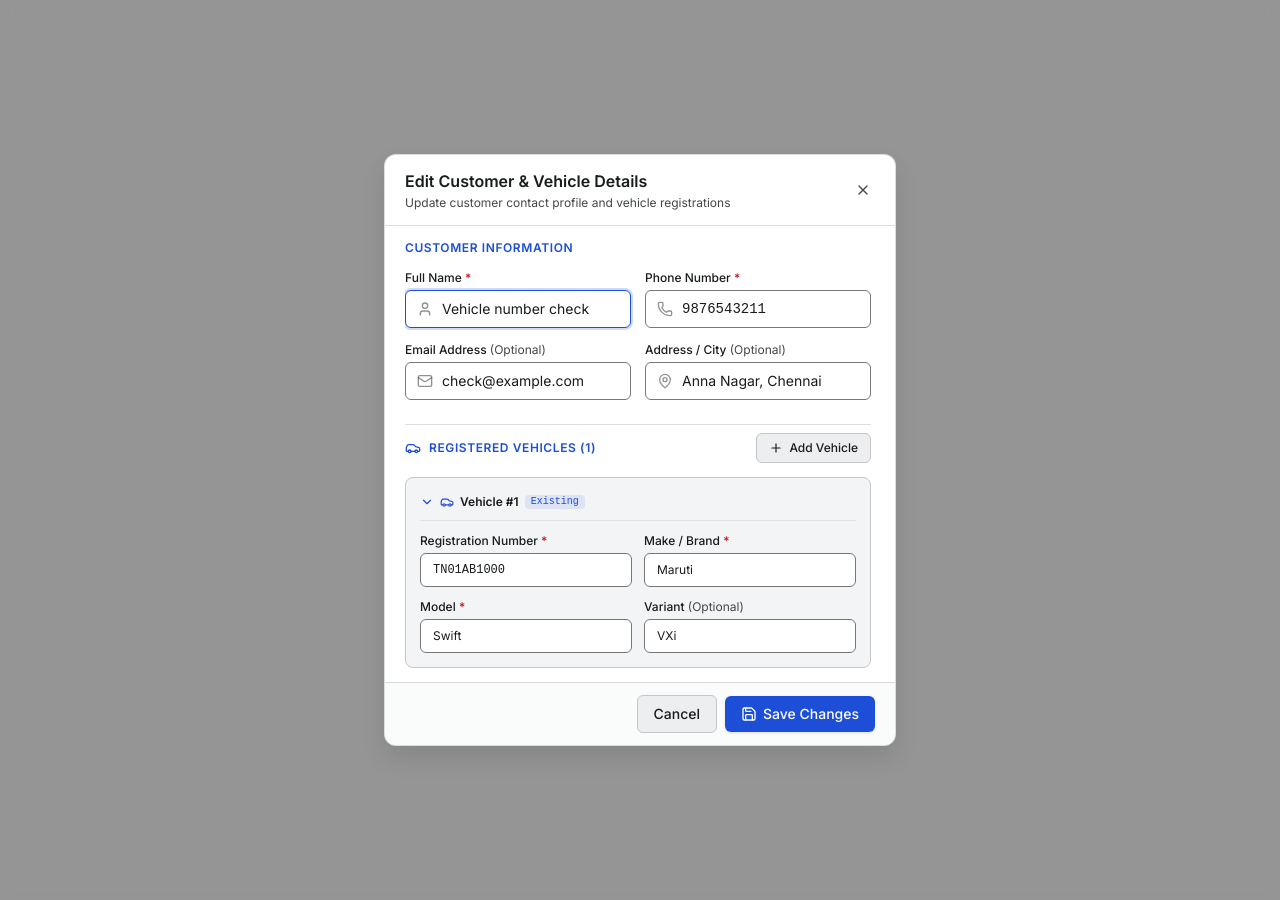
Scenario: EditCustomerModal Component & Vehicle Uniqueness › Vehicle Ownership Transfer Invariants & Regression Tests › Test 1 — Correct conflict vehicle: 409 for TN56P3334 displays registration and owner Gokula Kannan
The image size is (1280, 900).
Expected: the field showing "Vehicle number check" below "Full Name" is shown, [405,290,631,328]
Click the button "Add Vehicle" at (814, 448), box [756,433,871,463]
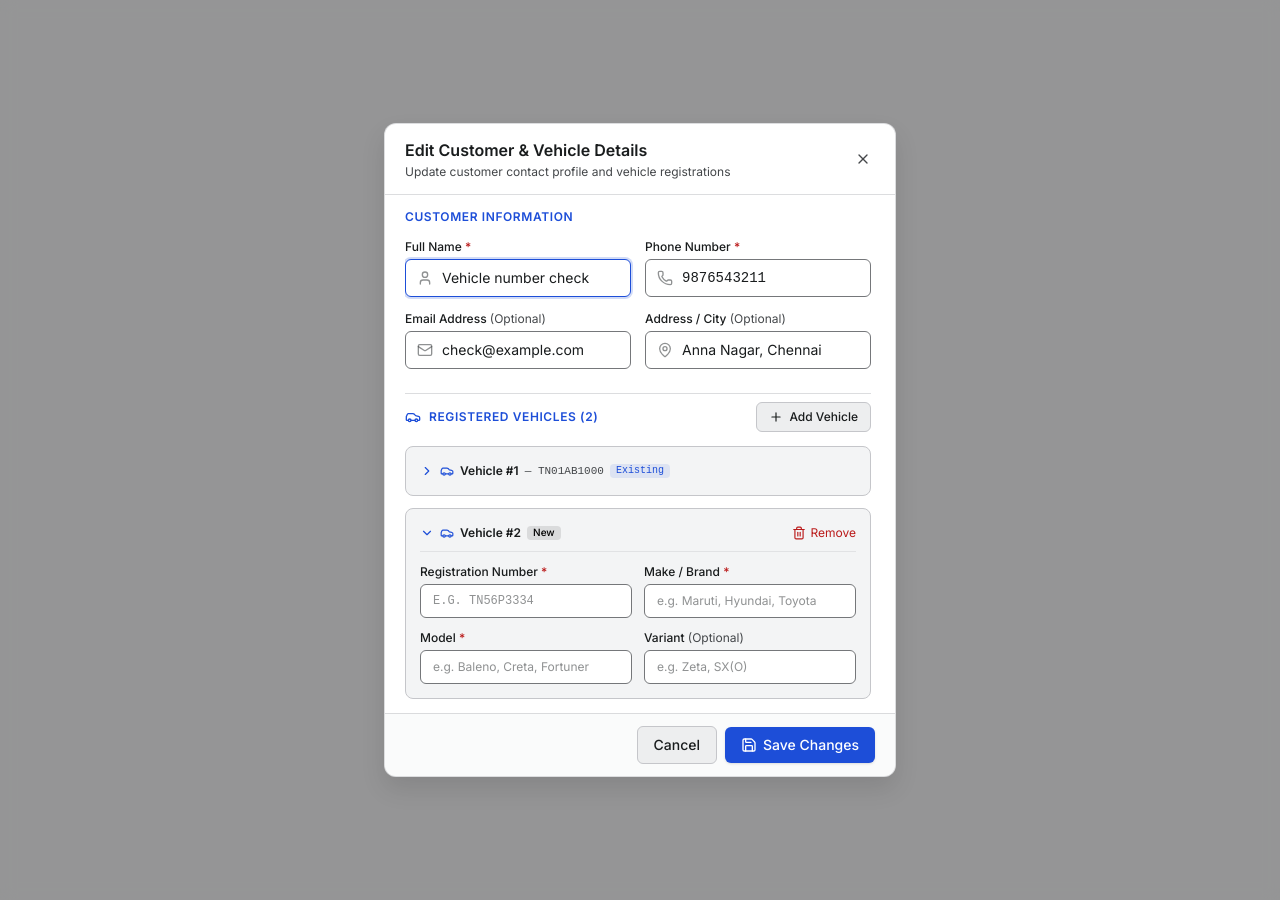
Type "TN56P3334" into the field with placeholder "e.g. TN56P3334" at (526, 601), box [420,584,632,618]
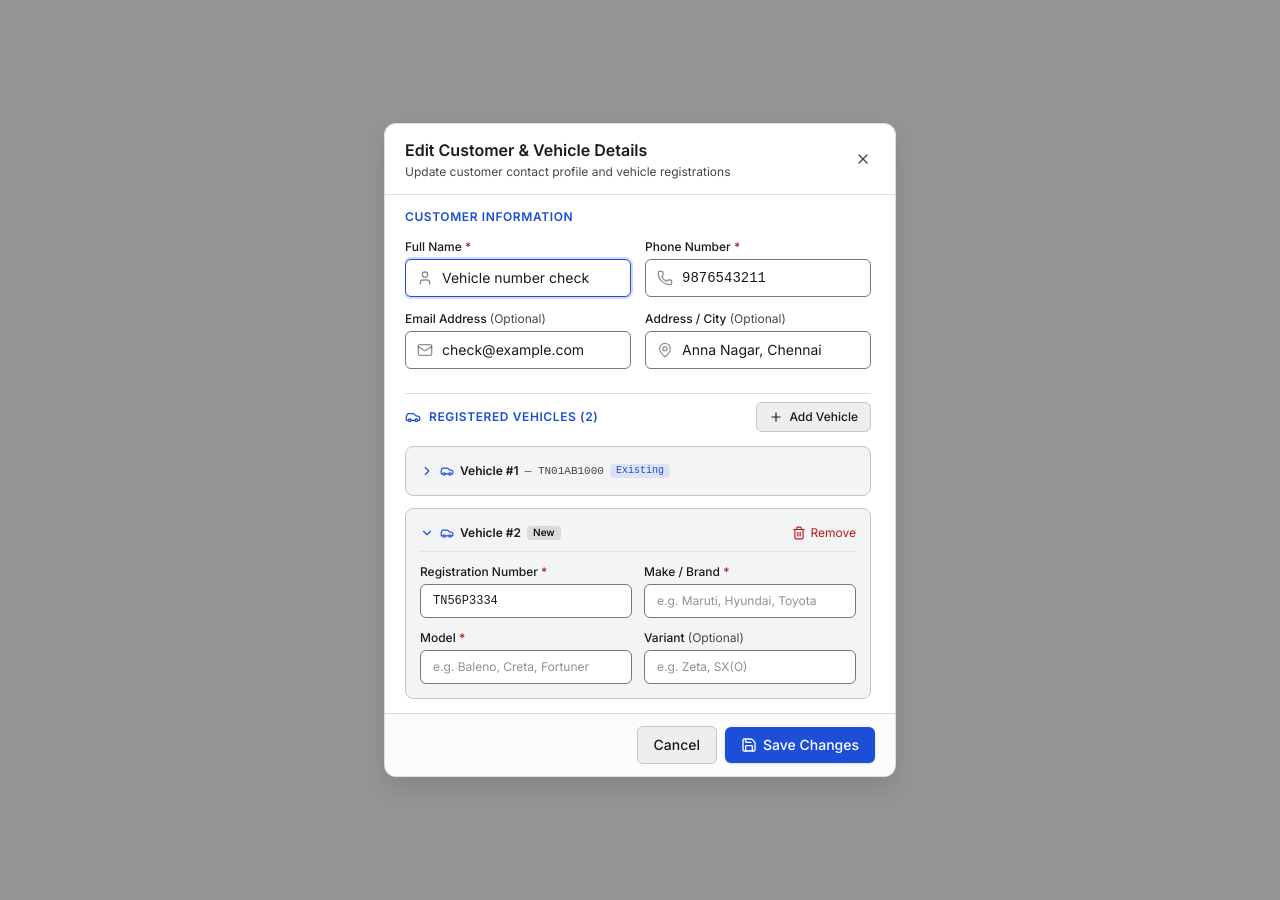
Type "Maruti" into the field with placeholder "e.g. Maruti, Hyundai, Toyota" at (750, 601), box [644,584,856,618]
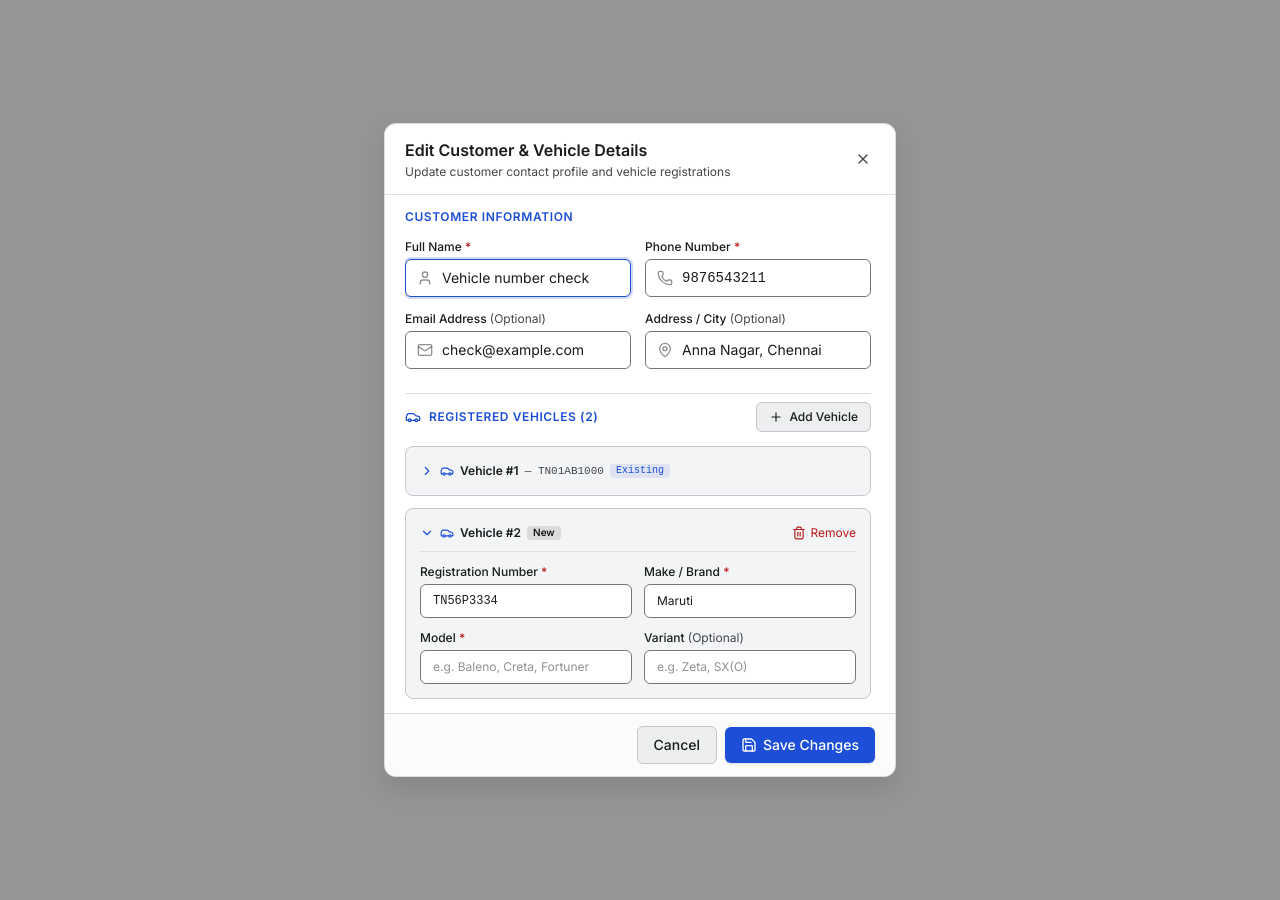
Type "Baleno" into the field with placeholder "e.g. Baleno, Creta, Fortuner" at (526, 667), box [420,650,632,684]
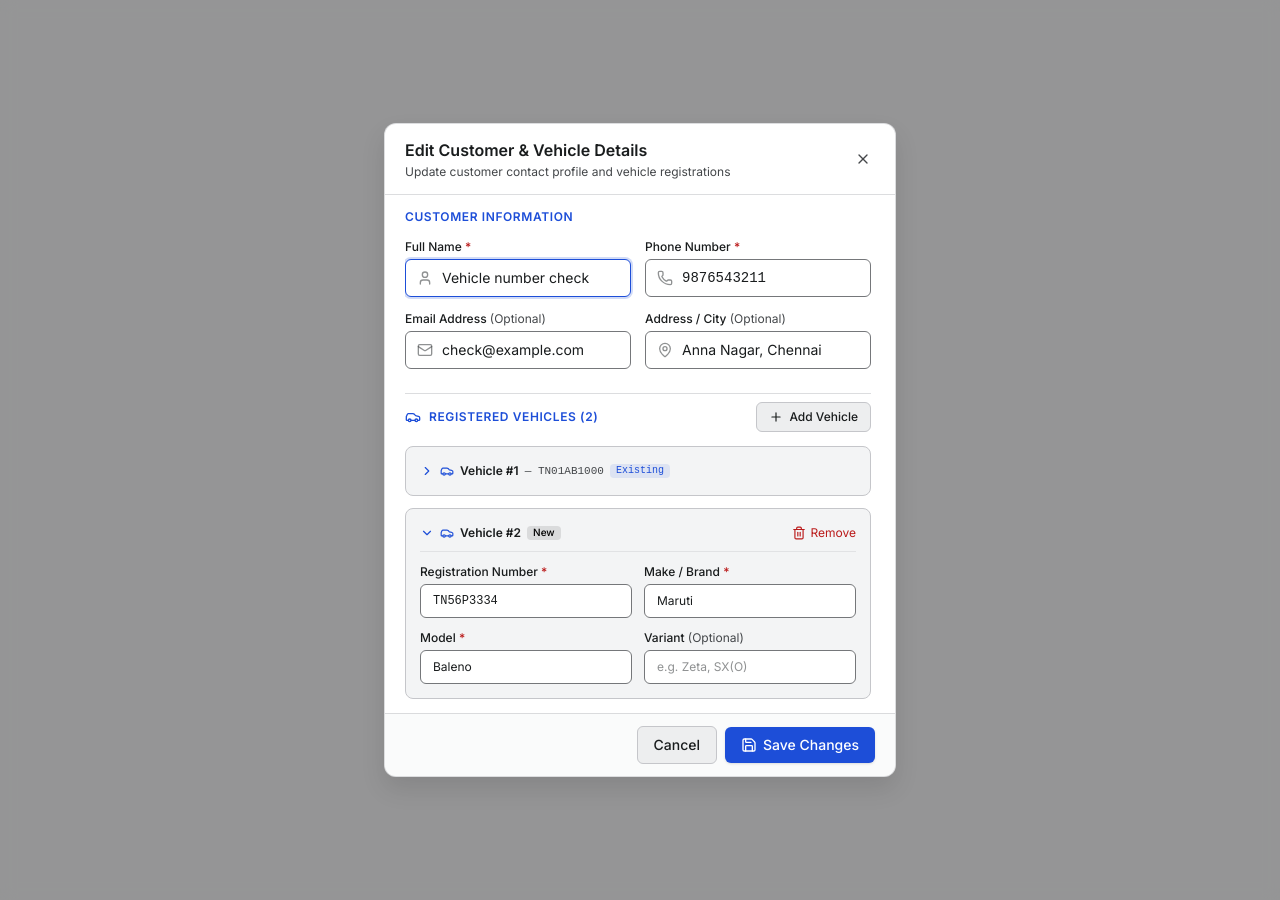
Click the button "Save Changes" at (800, 745), box [725,727,875,763]
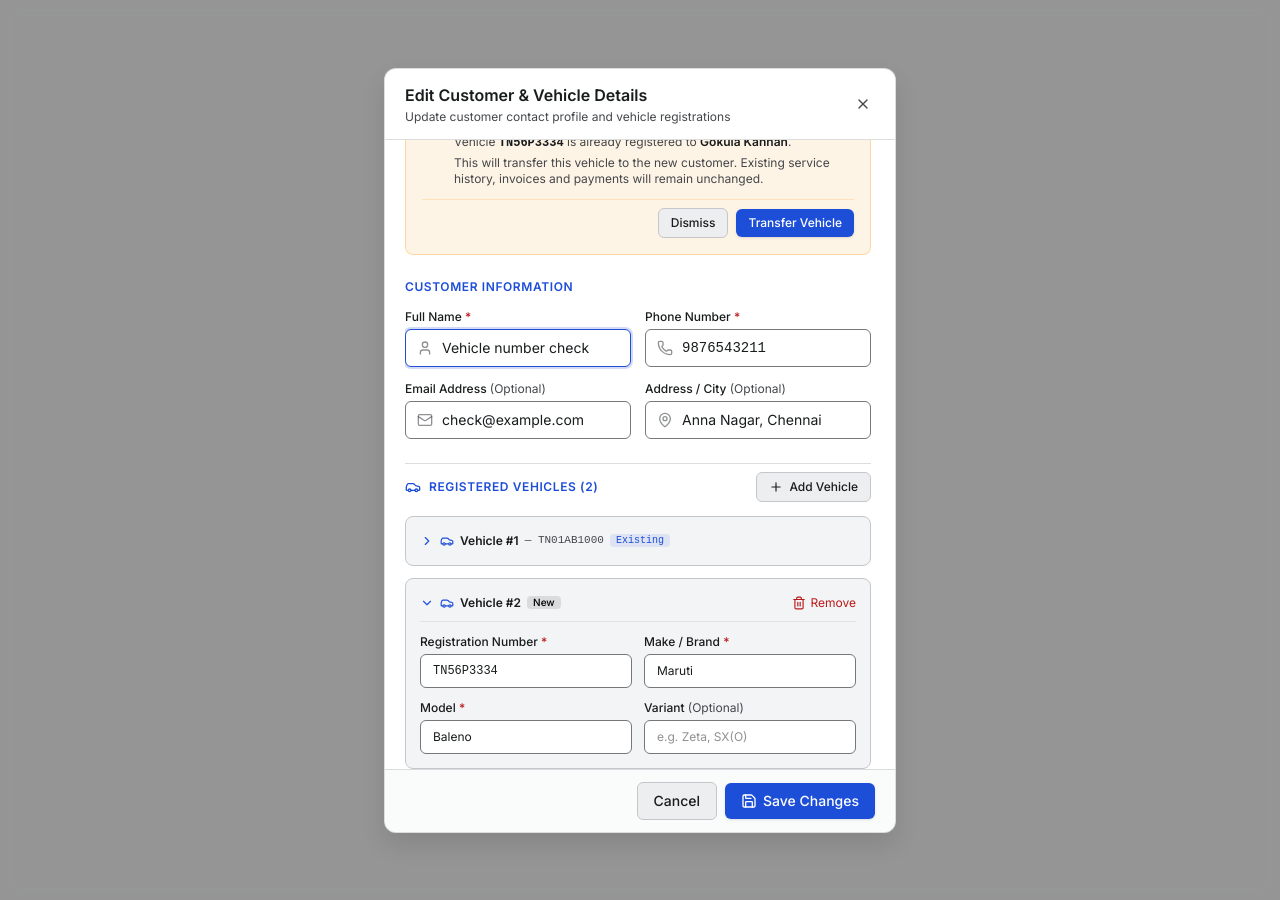
Expected: the text "TN56P3334" is shown, [499,140,564,150]
